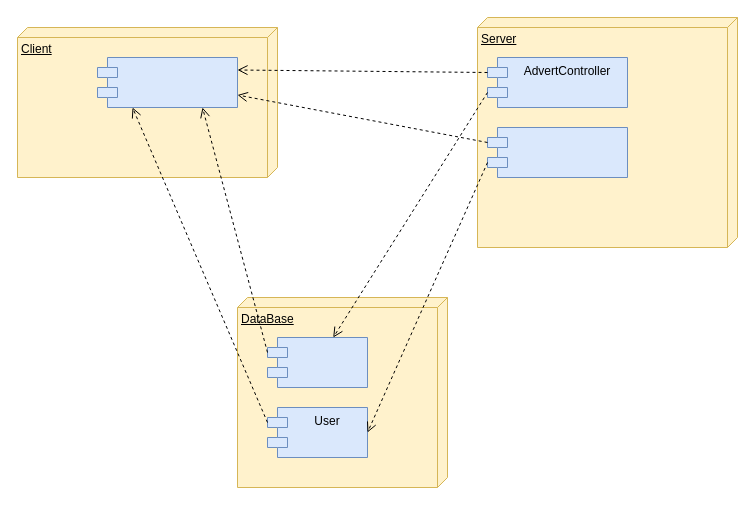
The diagram is 755 pixels wide and 505 high, and some of its shapes have lost their labels. Each missing label, with the centre of its shape:
"AccountController" goes at pixel 557 152.
"Advert" goes at pixel 317 362.
"View" goes at pixel 167 82.
